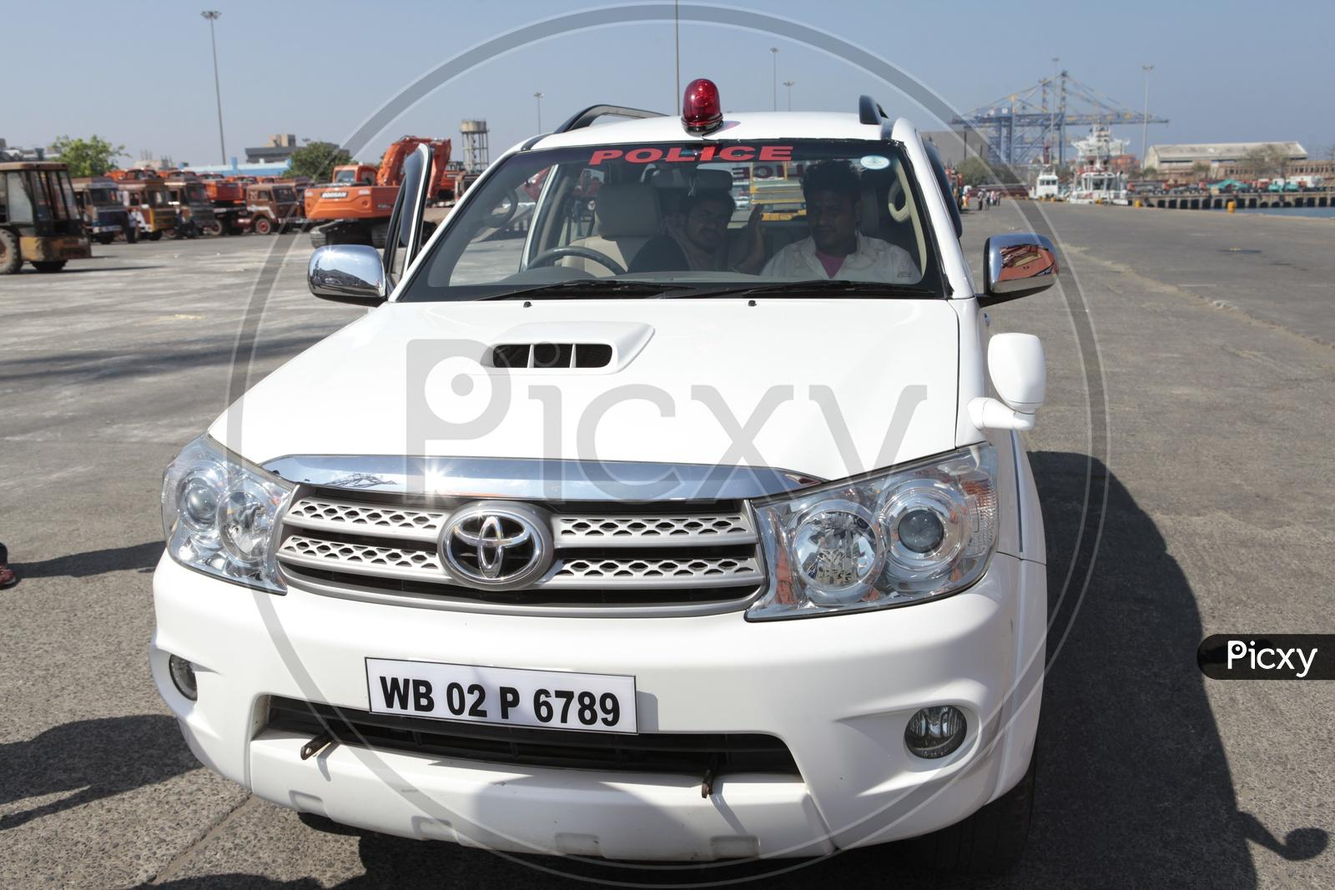Emergency-Vehicles: (271, 82, 1030, 872)
